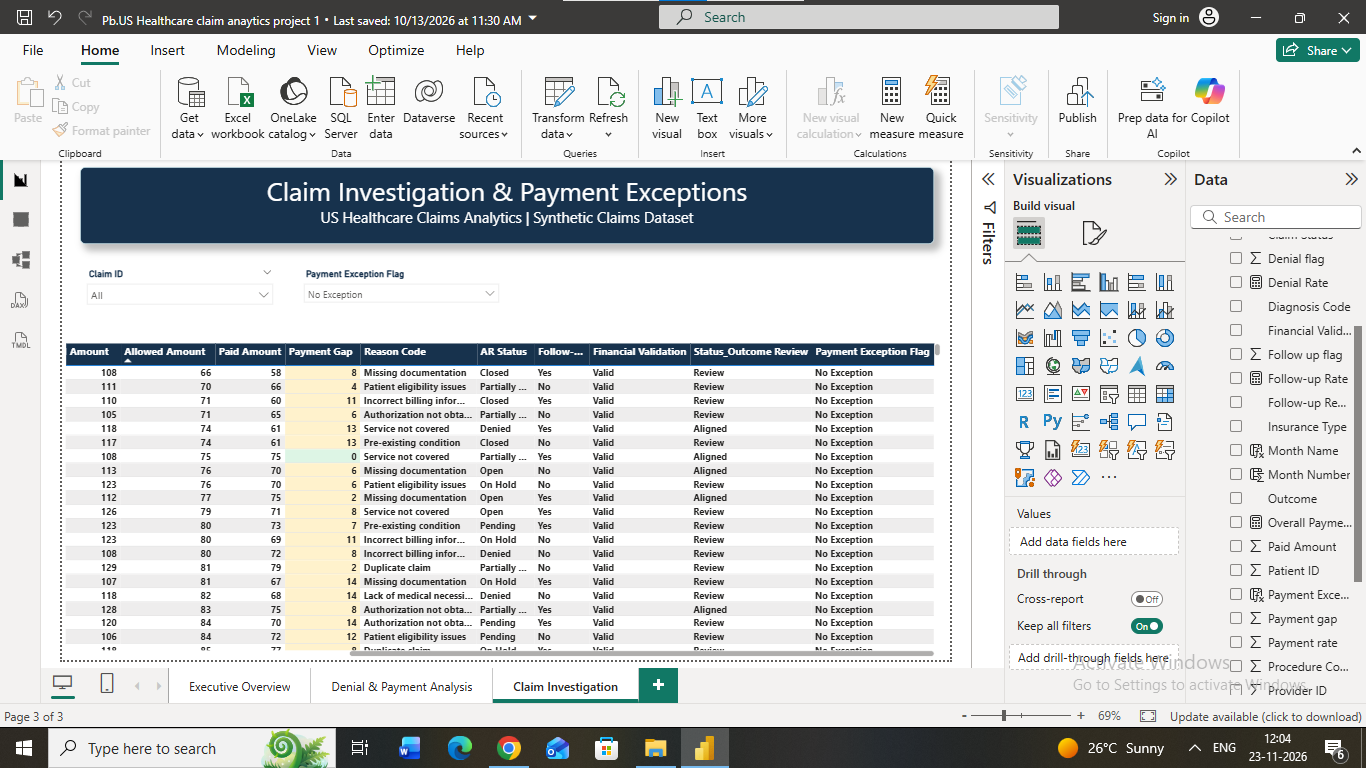

What the dashboard file says about the page in this screenshot:
{"tool":"powerbi","page":{"name":"Claim Investigation","canvas":[1280,720],"ordinal":2},"visuals":[{"type":"slicer","fields":{"Values":["claim_data.Claim ID"]},"box":[25.9,151.2,288,80.6],"z":0},{"type":"tableEx","fields":{"Values":["claim_data.Claim ID","claim_data.Service Date Cleaned","claim_data.Insurance Type","claim_data.Claim Status","claim_data.Outcome","claim_data.Billed Amount","claim_data.Allowed Amount","claim_data.Paid Amount","claim_data.Payment gap","claim_data.Reason Code","claim_data.AR Status","claim_data.Follow-up Required"]},"box":[0,259.2,1270.1,460.8],"z":1000},{"type":"textbox","box":[25.9,10.1,1229.8,110.9],"z":2000},{"type":"slicer","fields":{"Values":["claim_data.Payment Exception Flag"]},"box":[338.4,151.2,301,80.6],"z":3000}]}

Visuals, with their boxes on the page's 1280x720 design canvas (x1, y1, x2, y2). These are canvas units, not pixel positions in the 1366x768 screenshot, which may show the page scaled, cropped or inside an application window:
slicer - claim_data.Claim ID: (26, 151, 314, 232)
tableEx - claim_data.Claim ID x claim_data.Service Date Cleaned: (0, 259, 1270, 720)
textbox: (26, 10, 1256, 121)
slicer - claim_data.Payment Exception Flag: (338, 151, 639, 232)
